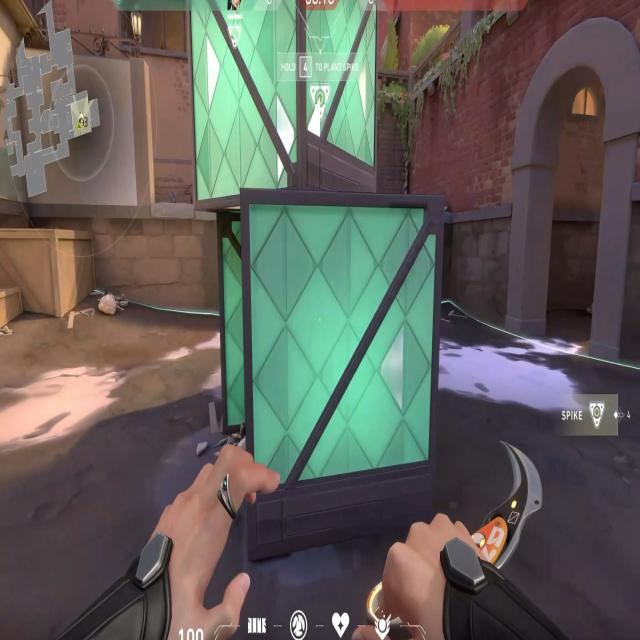B_Boathouse: (510, 12, 640, 366)
B_Site_Box: (183, 0, 452, 533)
